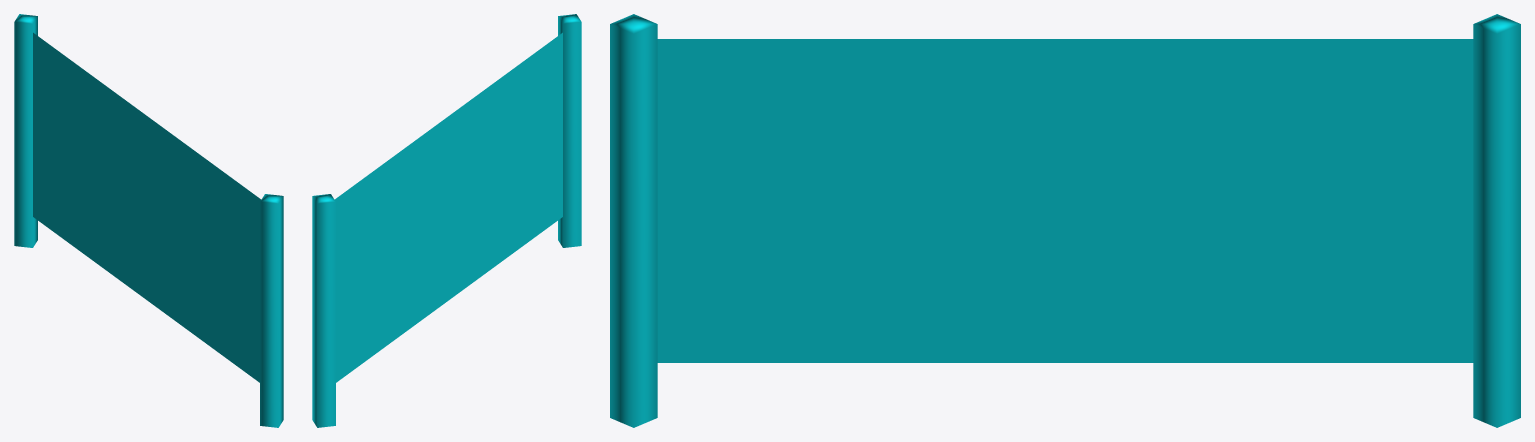
File: Ringhiera.fbx
The picture shows the model from 3 angles, left to right: view 1: azimuth 30°, elevation 25°; view 2: azimuth 150°, elevation 25°; view 3: azimuth 270°, elevation 25°; orthographic projection. The views are drawn at different scales.
Parts seen in each view (by area): view 1: ringhiera; view 2: ringhiera; view 3: ringhiera.
Boxes of the visible parts, <box> form: ringhiera: <box>14,14,283,427</box>; ringhiera: <box>312,14,581,427</box>; ringhiera: <box>610,14,1520,427</box>.
Size of the model in its own units: 4.5 by 41.27 by 86.47.
